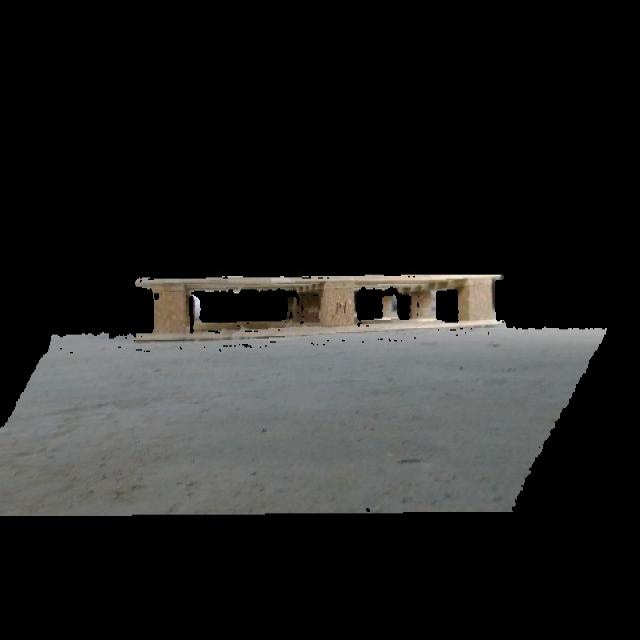block: (152, 283, 186, 334), (320, 288, 360, 325), (462, 285, 496, 321), (412, 290, 432, 320)
front: (134, 270, 508, 330)
